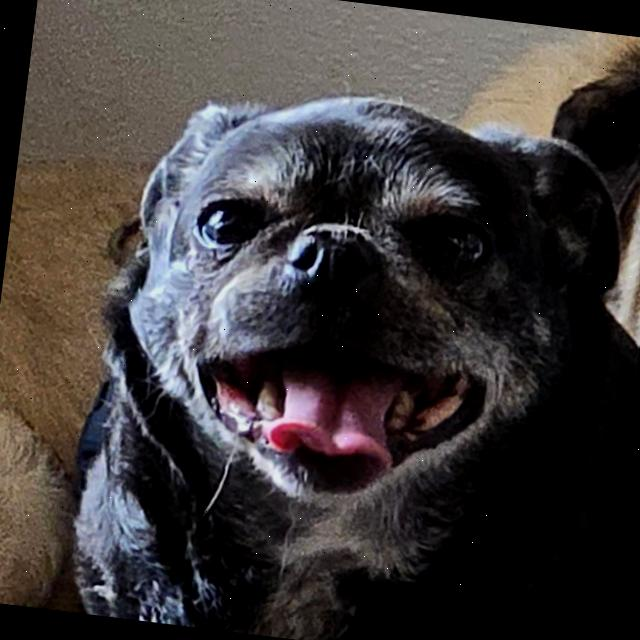pug_dog: (55, 35, 640, 610)
